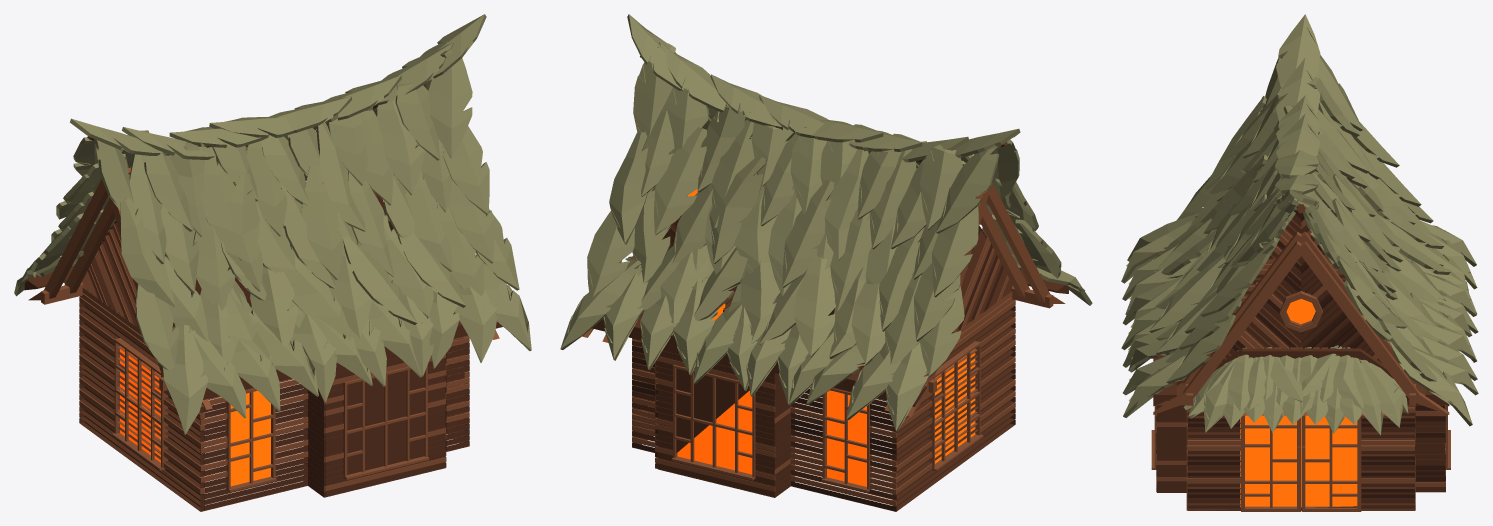
The model's file is beach_house.glb.
3 renders of one model, left to right at view 1: azimuth 30°, elevation 25°; view 2: azimuth 150°, elevation 25°; view 3: azimuth 270°, elevation 25°, orthographic. The views are drawn at different scales.
Visible parts, largest first — view 1: BeachHouse; view 2: BeachHouse; view 3: BeachHouse.
Boxes of the visible parts, x1,y1,x2,y2 form: BeachHouse: (14,14,531,511); BeachHouse: (560,14,1092,511); BeachHouse: (1121,14,1478,511).
Size of the model in its own units: 21.57 by 18.92 by 17.33.
